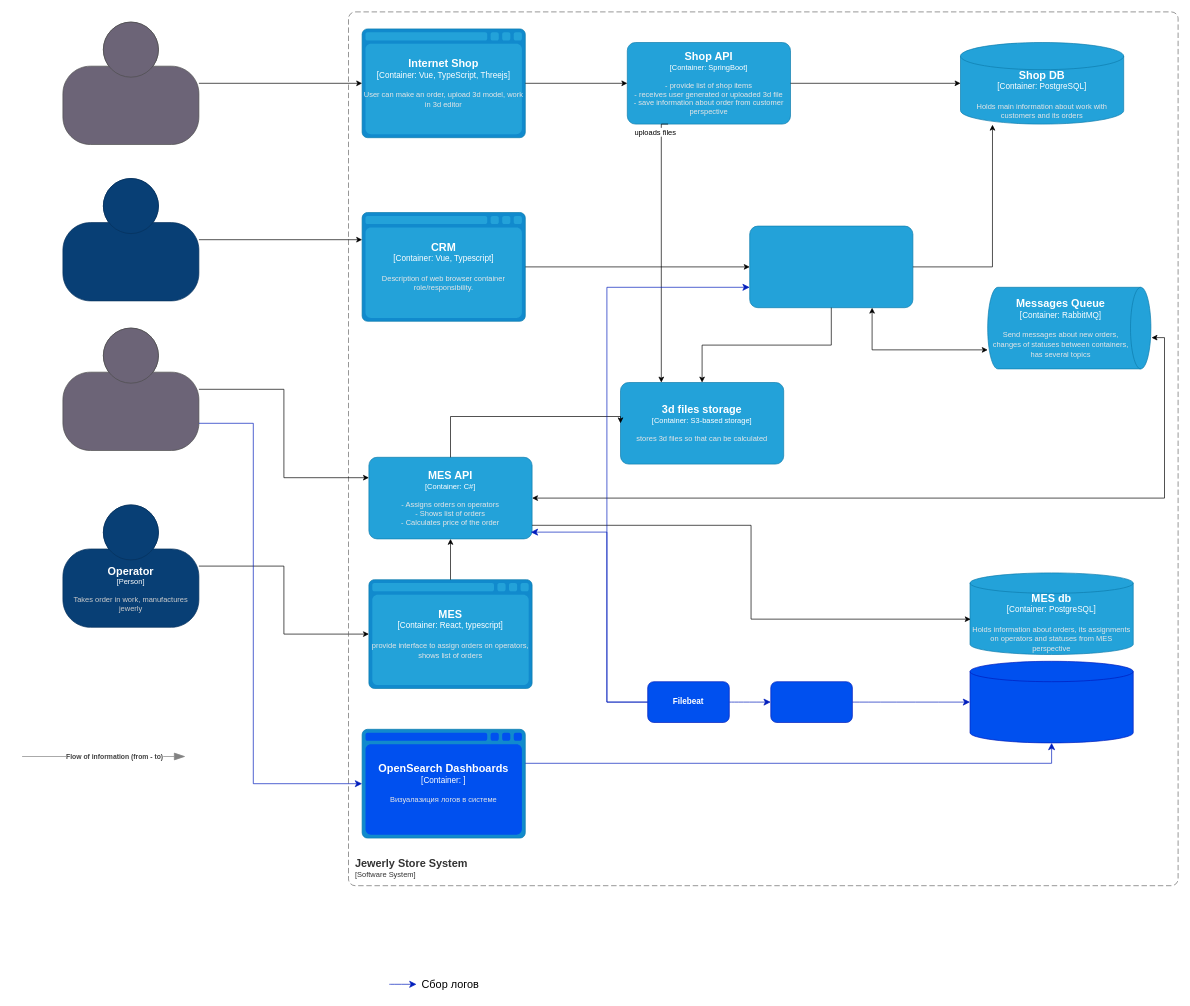
Image size: 1190x1006. Some labels were removed from this diagram. The centre of each missing label's shape, as x and y in pixels:
API user [Person] Description of external person.: point (130, 389)
CRM API [Container: SpringBoot] Description of container role/responsibility.: point (831, 266)
Customer [Person] Description of external person.: point (130, 82)
Logs db [Container: Opensearch] Хранит логи собранные с приложений и систем: point (1051, 702)
Logtash: point (811, 701)
Seller [Person] Operates with order, confirms manufacturing for the user: point (130, 239)
